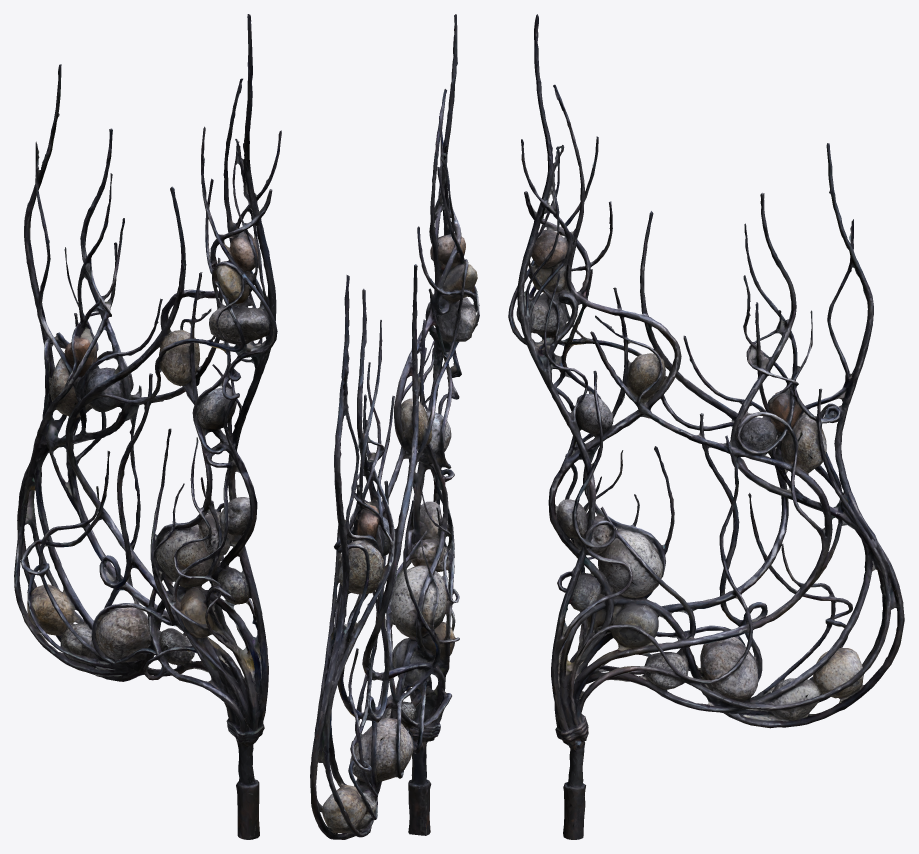
The model's file is gates.glb.
3 views of the same model, side by side, from view 1: azimuth 30°, elevation 25°; view 2: azimuth 150°, elevation 25°; view 3: azimuth 270°, elevation 25° (orthographic). The views are drawn at different scales.
Parts seen in each view (by area): view 1: pretopo_gate; view 2: pretopo_gate; view 3: pretopo_gate.
Boxes of the visible parts, left/top/right/bottom form: pretopo_gate: left=14, top=14, right=281, bottom=839; pretopo_gate: left=310, top=14, right=479, bottom=839; pretopo_gate: left=508, top=14, right=904, bottom=839.
Bounding box in the file's own units: 0.4272 × 3.47 × 1.54.
Materials: 2 (1 with a texture image).
